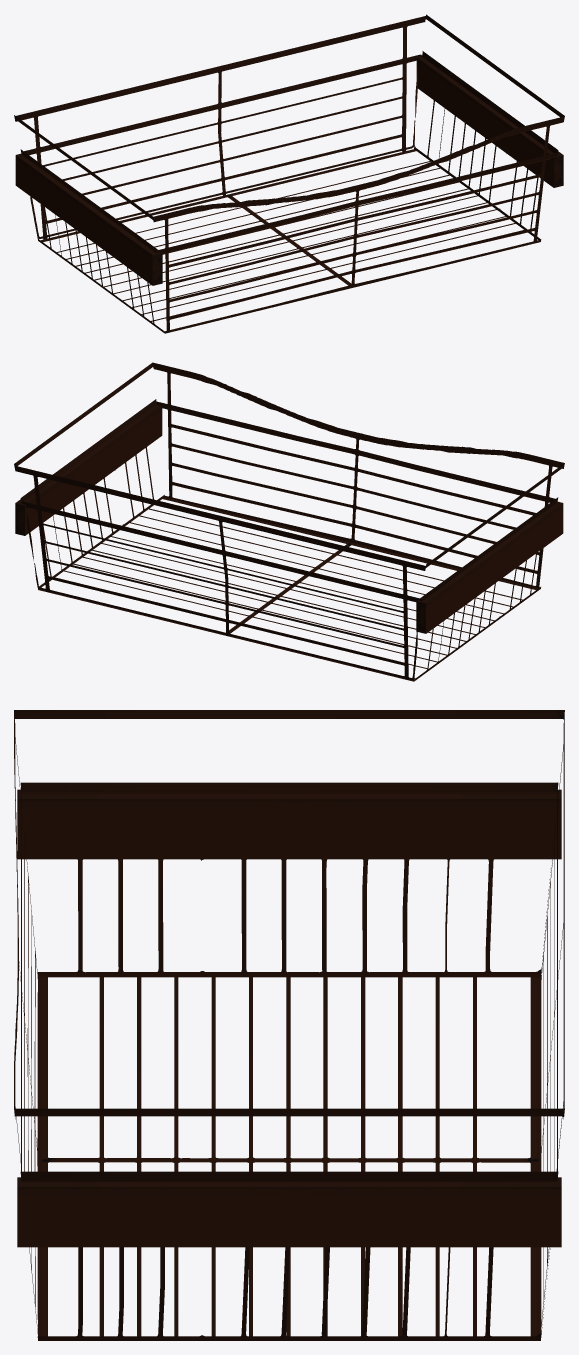
The model's file is bask1.obj.
3 views of the same model, one above another, from view 1: azimuth 30°, elevation 25°; view 2: azimuth 150°, elevation 25°; view 3: azimuth 270°, elevation 25° (orthographic). The views are drawn at different scales.
Visible parts, largest first — view 1: Cube.003; view 2: Cube.003; view 3: Cube.003.
Part boxes in pixels (x1,y1,x2,y2): Cube.003: (14,14,564,333); Cube.003: (14,362,564,681); Cube.003: (14,710,564,1340).
Size of the model in its own units: 24 by 7.02 by 14.02.
Materials: 1 (1 with a texture image).
